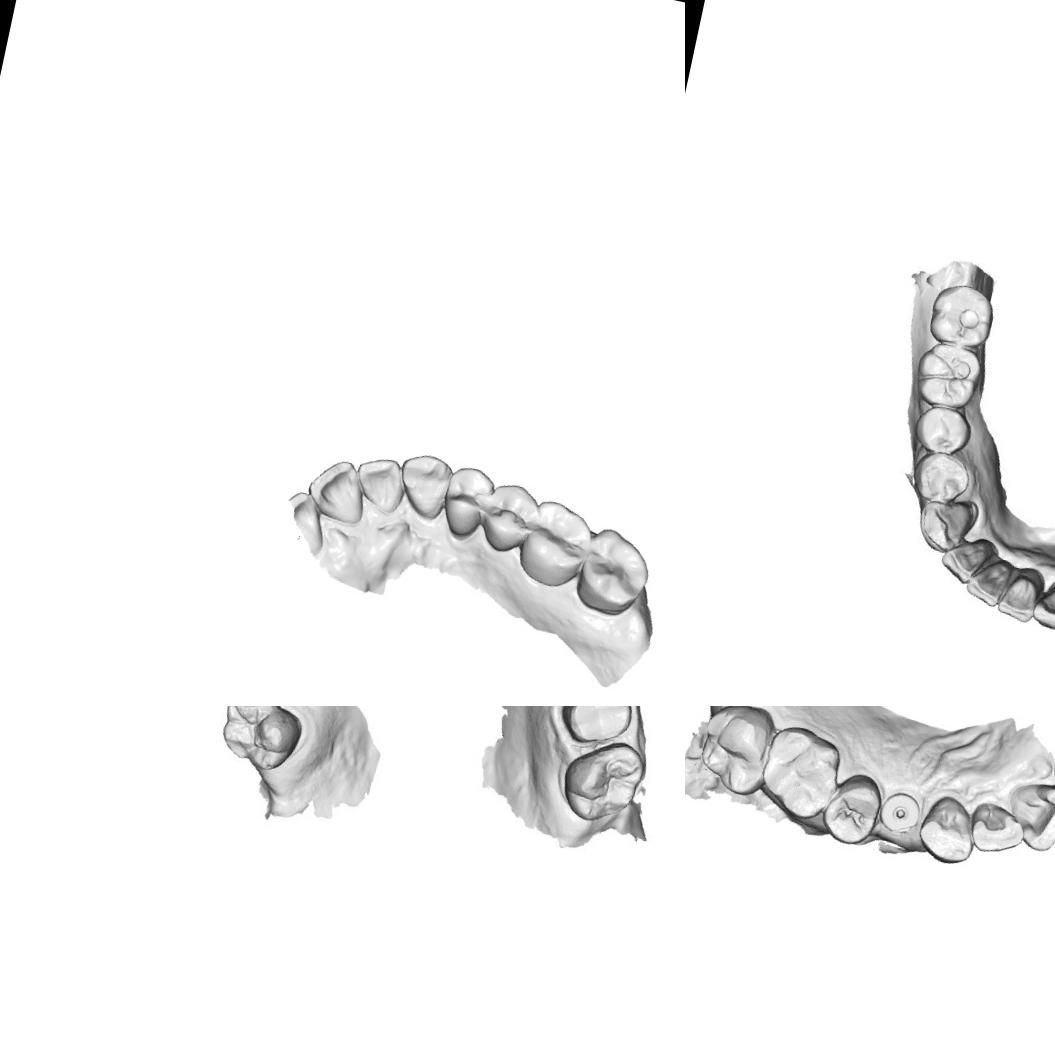canine: (912, 789, 982, 869), (390, 448, 456, 524), (909, 494, 976, 556)
crown: (562, 706, 631, 748)
implant: (877, 786, 926, 838)
incisor: (300, 452, 374, 528), (997, 775, 1055, 859), (348, 452, 410, 516), (966, 798, 1030, 860), (939, 535, 994, 588), (998, 568, 1043, 619), (970, 554, 1014, 605), (1038, 575, 1055, 627)
molar: (750, 719, 850, 828), (553, 732, 650, 833), (690, 706, 783, 804), (571, 522, 659, 622), (512, 495, 596, 594), (211, 706, 312, 779), (912, 336, 988, 412), (923, 282, 994, 350)
premolar: (816, 764, 890, 852), (478, 479, 545, 559), (436, 462, 498, 543), (912, 448, 972, 510), (914, 402, 977, 458)
